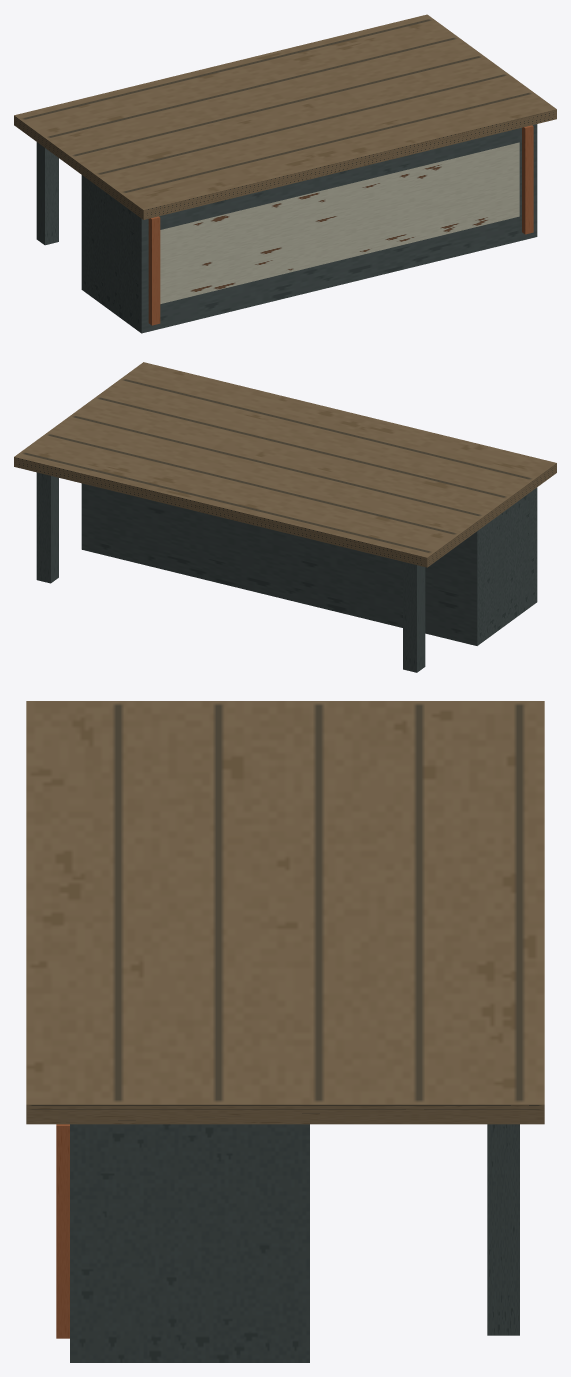
File: ServiceCounter.fbx
3 views of the same model, one above another, from view 1: azimuth 30°, elevation 25°; view 2: azimuth 150°, elevation 25°; view 3: azimuth 270°, elevation 25° (orthographic). The views are drawn at different scales.
Visible parts, largest first — view 1: ServiceCounter; view 2: ServiceCounter; view 3: ServiceCounter.
Part boxes in pixels (bbox=[...]): ServiceCounter: bbox=[14, 14, 556, 333]; ServiceCounter: bbox=[14, 362, 556, 672]; ServiceCounter: bbox=[26, 701, 544, 1362].
Size of the model in its own units: 350 by 108 by 190.
